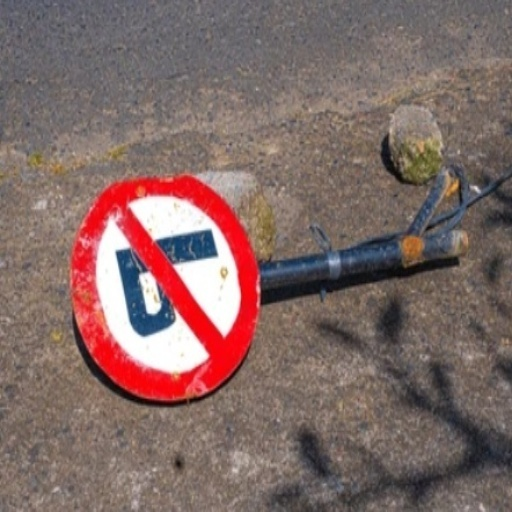No parking: (64, 160, 276, 413)
